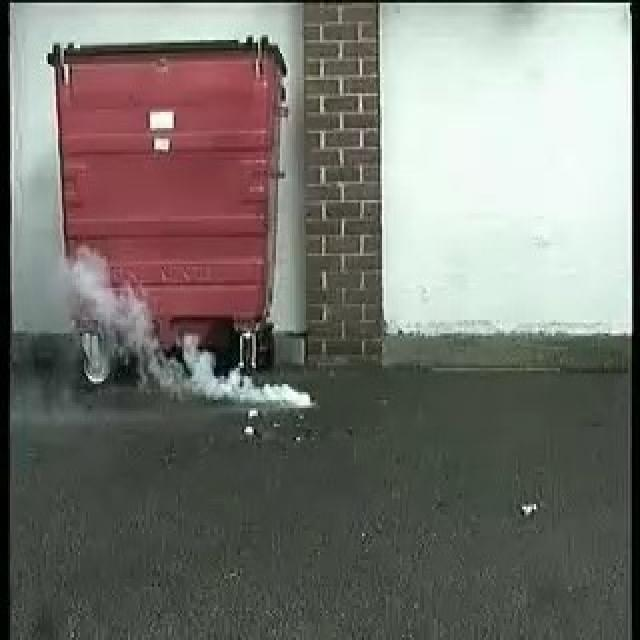smoke: (67, 247, 306, 403)
